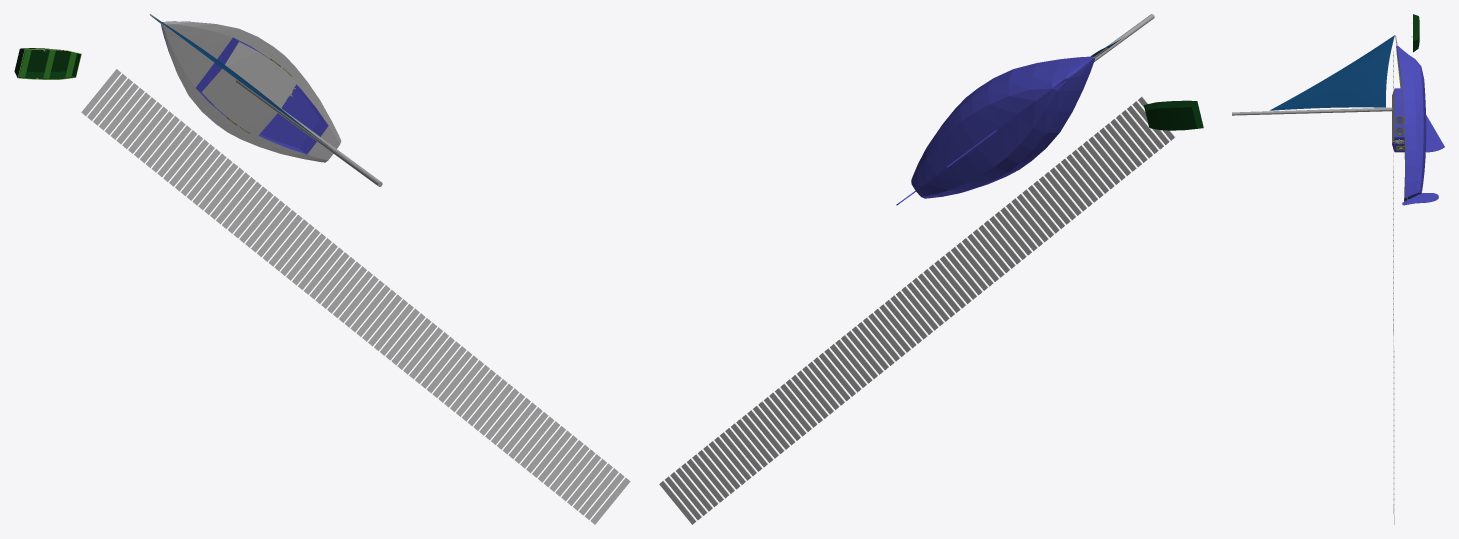
3 renders of one model, left to right at view 1: azimuth 30°, elevation 25°; view 2: azimuth 150°, elevation 25°; view 3: azimuth 270°, elevation 25°, orthographic. The views are drawn at different scales.
Parts seen in each view (by area): view 1: Plank_Cube.001, Sloop_Hull_Cube, Boat_Cube.003; view 2: Plank_Cube.001, Sloop_Hull_Cube, Boat_Cube.003; view 3: Sloop_Hull_Cube, Jib_SurfPatch.002, Plank_Cube.001, Rudder_BezierCurve.001.
Boxes of the visible parts, x1,y1,x2,y2 form: Plank_Cube.001: [81, 69, 630, 524]; Sloop_Hull_Cube: [150, 14, 382, 186]; Boat_Cube.003: [14, 48, 81, 79]; Plank_Cube.001: [659, 96, 1174, 524]; Sloop_Hull_Cube: [911, 14, 1154, 198]; Boat_Cube.003: [1144, 100, 1203, 130]; Sloop_Hull_Cube: [1232, 35, 1444, 201]; Jib_SurfPatch.002: [1270, 35, 1394, 110]; Plank_Cube.001: [1393, 51, 1394, 524]; Rudder_BezierCurve.001: [1402, 193, 1438, 205].
Size of the model in its own units: 98.16 by 97.15 by 51.64.
